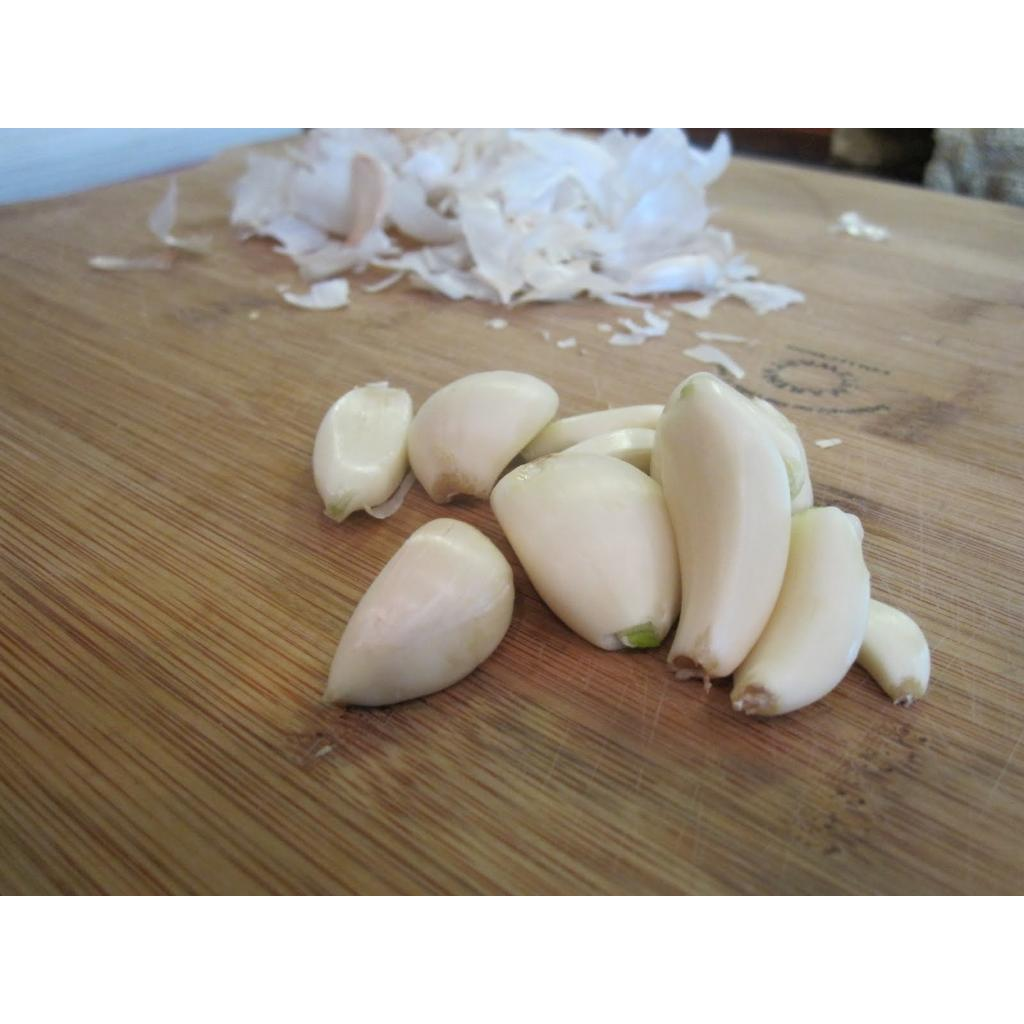garlic: (419, 371, 928, 714), (653, 372, 790, 680), (490, 453, 679, 648), (323, 518, 513, 705), (324, 519, 512, 705), (730, 506, 868, 714), (407, 370, 557, 502), (313, 383, 430, 520), (312, 381, 413, 521), (856, 599, 929, 705)
